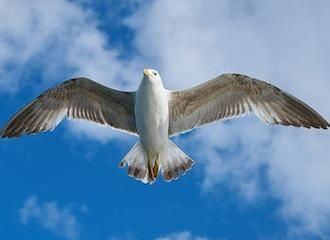bird: (2, 63, 330, 186)
